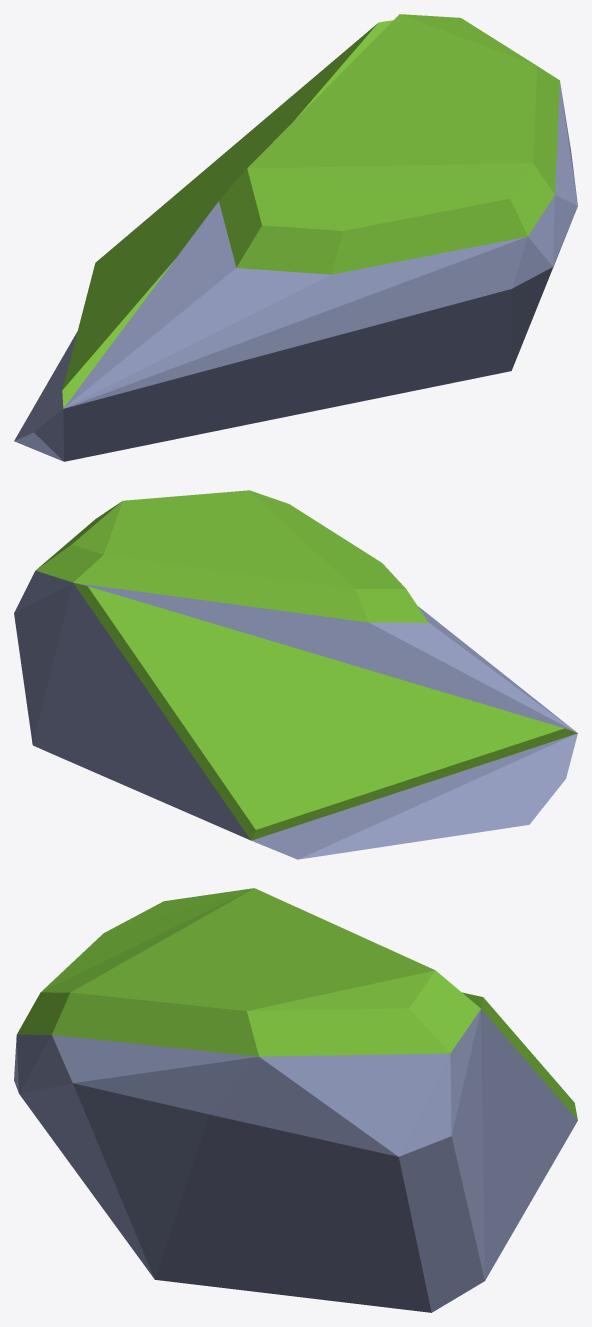
File: Stone_2_1.fbx
3 renders of one model, top to bottom at view 1: azimuth 30°, elevation 25°; view 2: azimuth 150°, elevation 25°; view 3: azimuth 270°, elevation 25°, orthographic. The views are drawn at different scales.
Parts seen in each view (by area): view 1: Stone_2_1; view 2: Stone_2_1; view 3: Stone_2_1.
Boxes of the visible parts, <box> form: Stone_2_1: <box>14,14,577,461</box>; Stone_2_1: <box>14,490,577,859</box>; Stone_2_1: <box>14,888,577,1312</box>.
Bounding box in the file's own units: 1.13 × 0.5101 × 0.8115.
